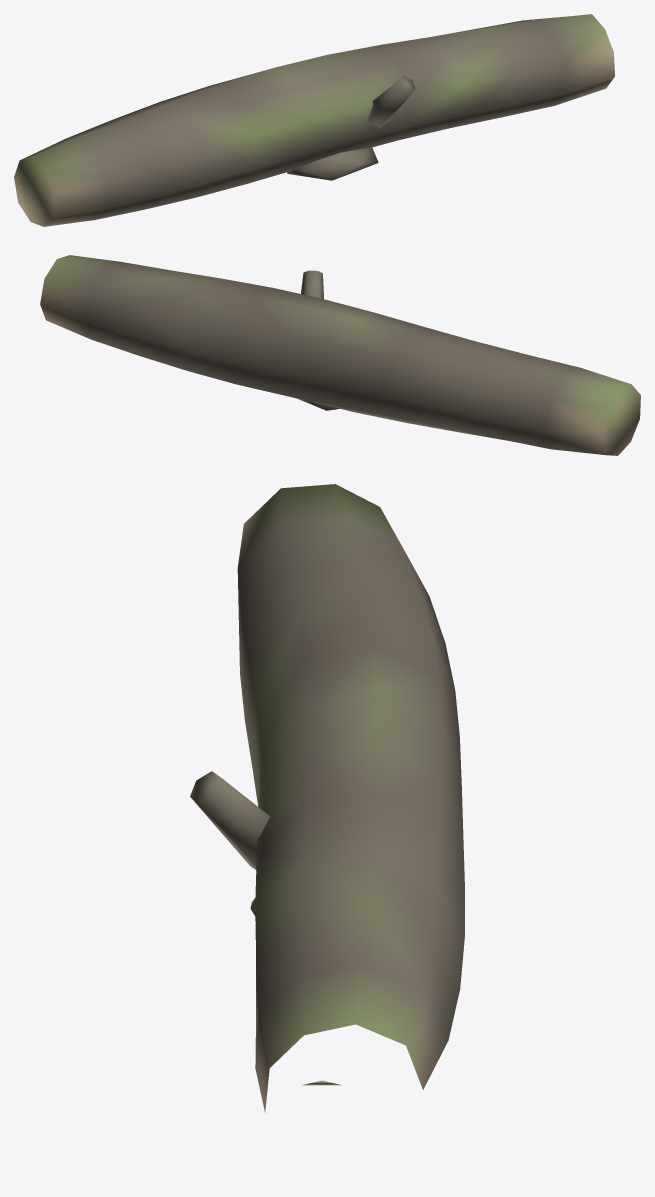
The model's file is fallen_log_moss.glb.
The picture shows the model from 3 angles, top to bottom: view 1: azimuth 30°, elevation 25°; view 2: azimuth 150°, elevation 25°; view 3: azimuth 270°, elevation 25°; orthographic projection. The views are drawn at different scales.
Visible parts, largest first — view 1: fallen_log_moss; view 2: fallen_log_moss; view 3: fallen_log_moss.
Boxes of the visible parts, x1,y1,x2,y2 form: fallen_log_moss: (14,14,614,226); fallen_log_moss: (40,255,640,455); fallen_log_moss: (190,484,464,1112).
Bounding box in the file's own units: 4.75 × 0.7283 × 0.9634.
